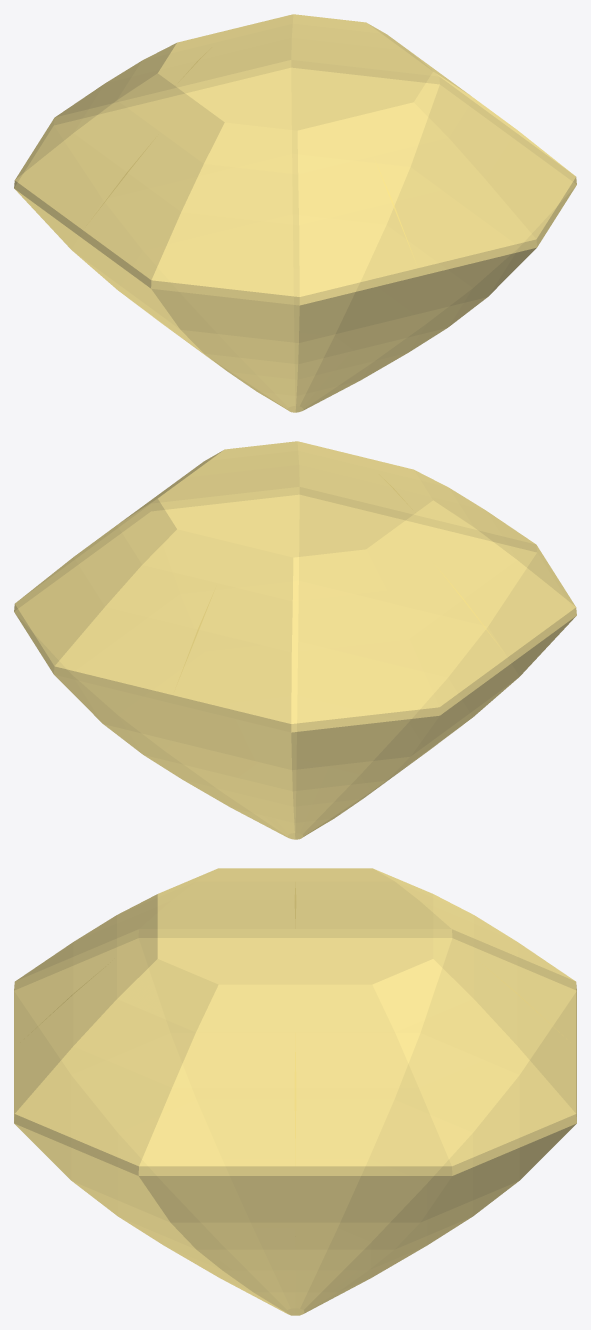
The model's file is assher saphire jaune.glb.
3 views of the same model, one above another, from view 1: azimuth 30°, elevation 25°; view 2: azimuth 150°, elevation 25°; view 3: azimuth 270°, elevation 25° (orthographic). The views are drawn at different scales.
Visible parts, largest first — view 1: Asscher.001; view 2: Asscher.001; view 3: Asscher.001.
Boxes of the visible parts, x1,y1,x2,y2 form: Asscher.001: (14,14,576,412); Asscher.001: (14,441,576,839); Asscher.001: (14,868,576,1315).
Size of the model in its own units: 1.5 by 1.14 by 1.5.
